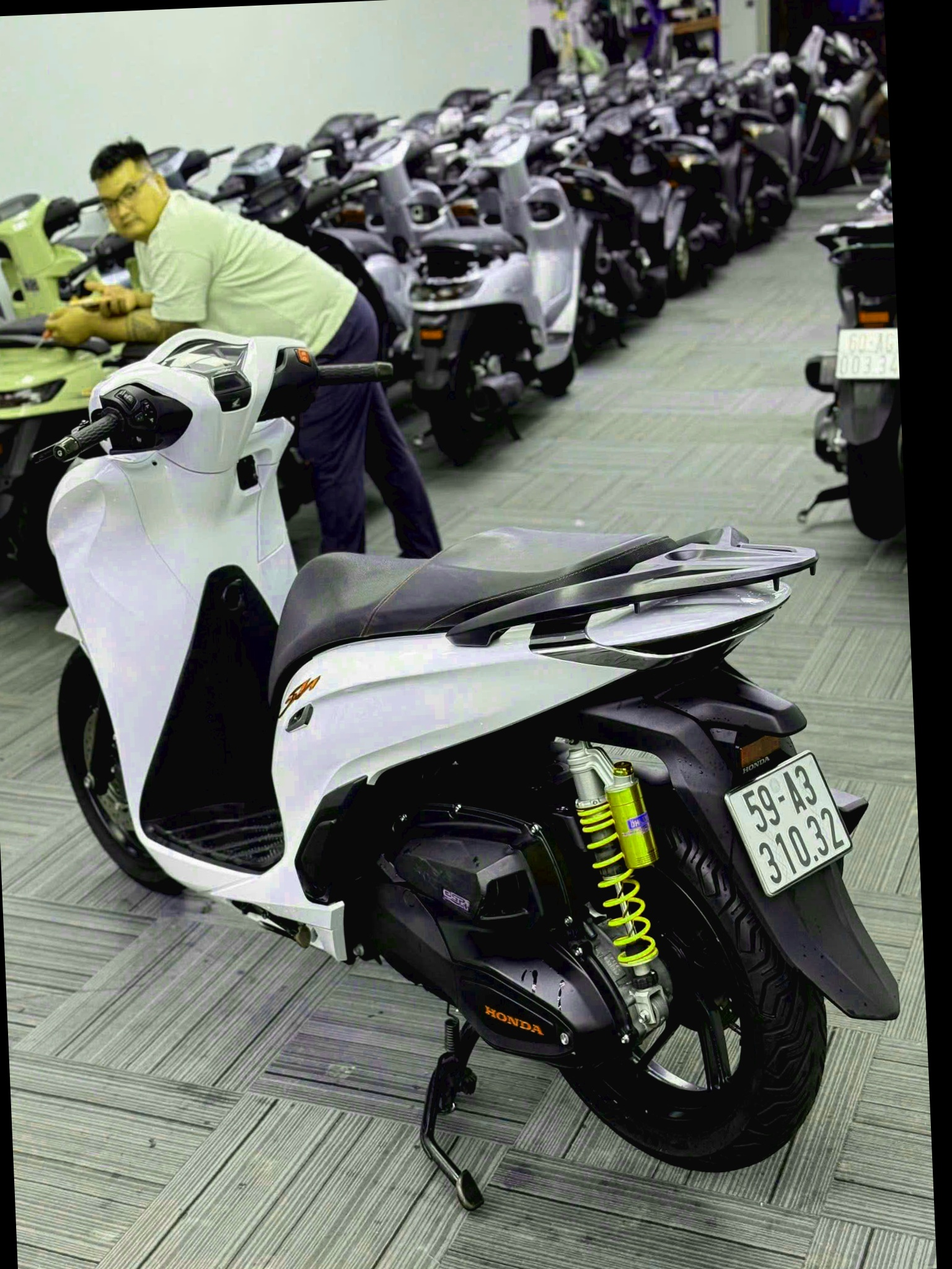Bien-so: (726, 745, 863, 902)
